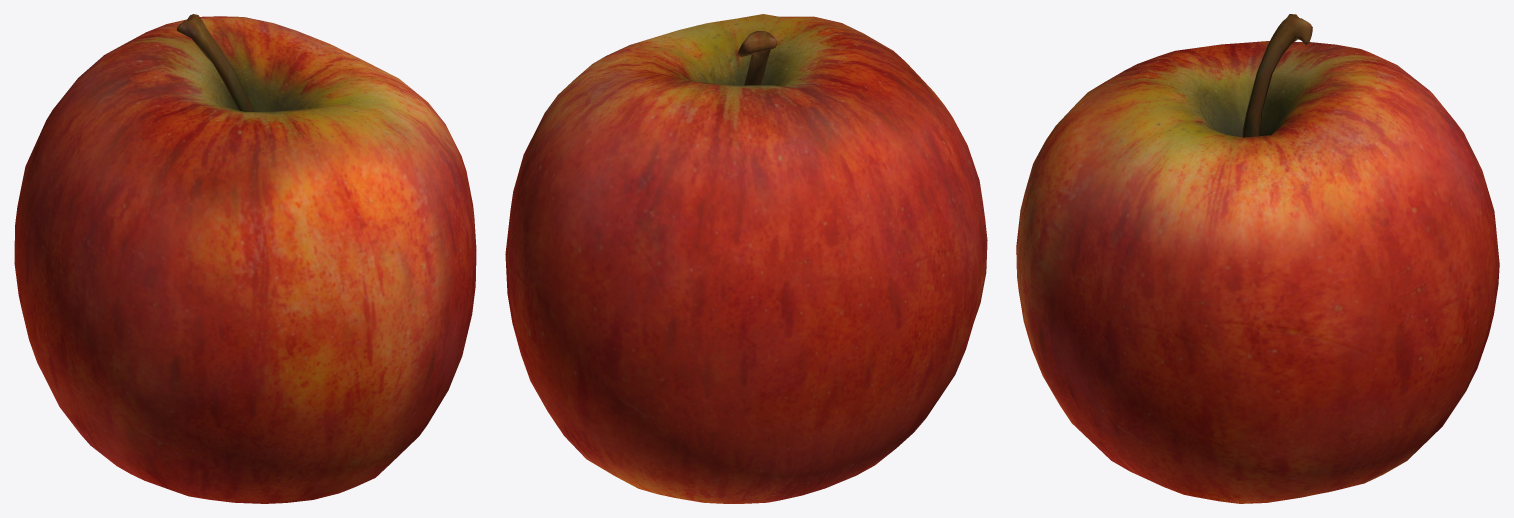
The model's file is apple.glb.
The picture shows the model from 3 angles, left to right: view 1: azimuth 30°, elevation 25°; view 2: azimuth 150°, elevation 25°; view 3: azimuth 270°, elevation 25°; orthographic projection. The views are drawn at different scales.
Visible parts, largest first — view 1: apple_low_obj; view 2: apple_low_obj; view 3: apple_low_obj.
Part boxes in pixels (x1,y1,x2,y2): apple_low_obj: (14, 14, 476, 503); apple_low_obj: (505, 14, 987, 503); apple_low_obj: (1016, 14, 1499, 503).
Bounding box in the file's own units: 3.45 × 3.59 × 3.71.
1 material, 1 textured.
